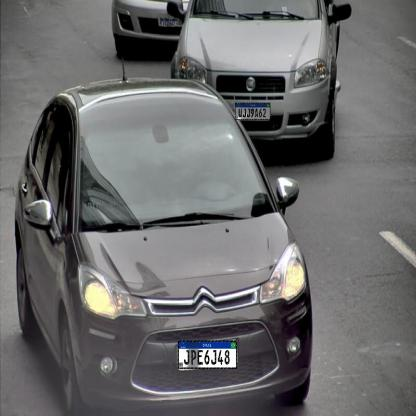PlacaM: (178, 340, 237, 369), (235, 103, 270, 120), (161, 19, 177, 27)
